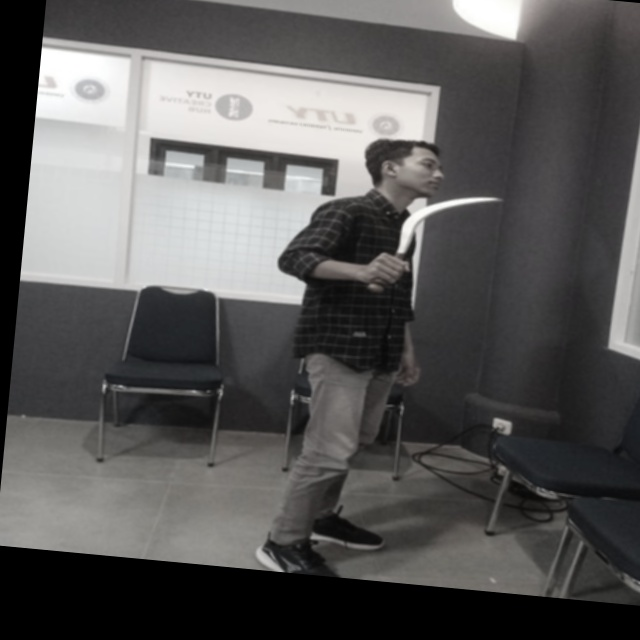Sharp-Object: (347, 181, 509, 307)
